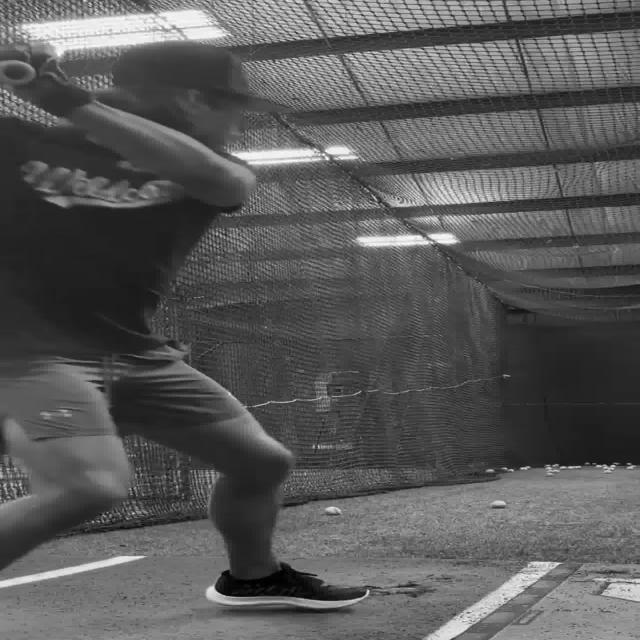baseball: (324, 506, 342, 516), (490, 501, 506, 508)
baseball_glove: (0, 41, 93, 118)
shoe: (204, 562, 370, 610)
